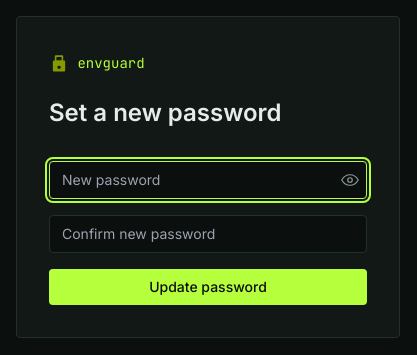
Test: ResetPasswordPage › successfully resets password and redirects
Step 1. Type "NewPassword123!" into the password field with placeholder "New password" → (208, 180), box [49,161,367,199]
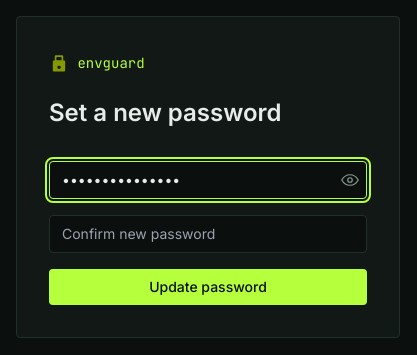
Step 2. Type "NewPassword123!" into the password field with placeholder "Confirm new password" → (208, 234), box [49,215,367,253]
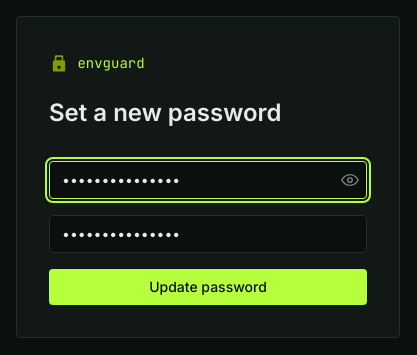
Step 3. Click the button "Update password" → click(208, 287), box [49,269,367,305]
Wait 2000 ms
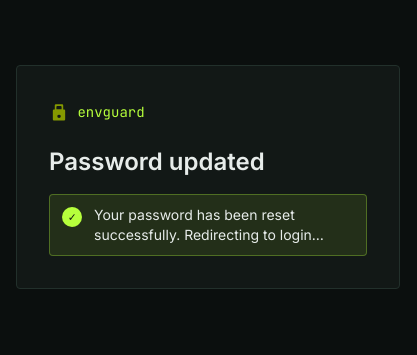
Check: the heading "Password updated" is shown, box [49,147,265,176]
